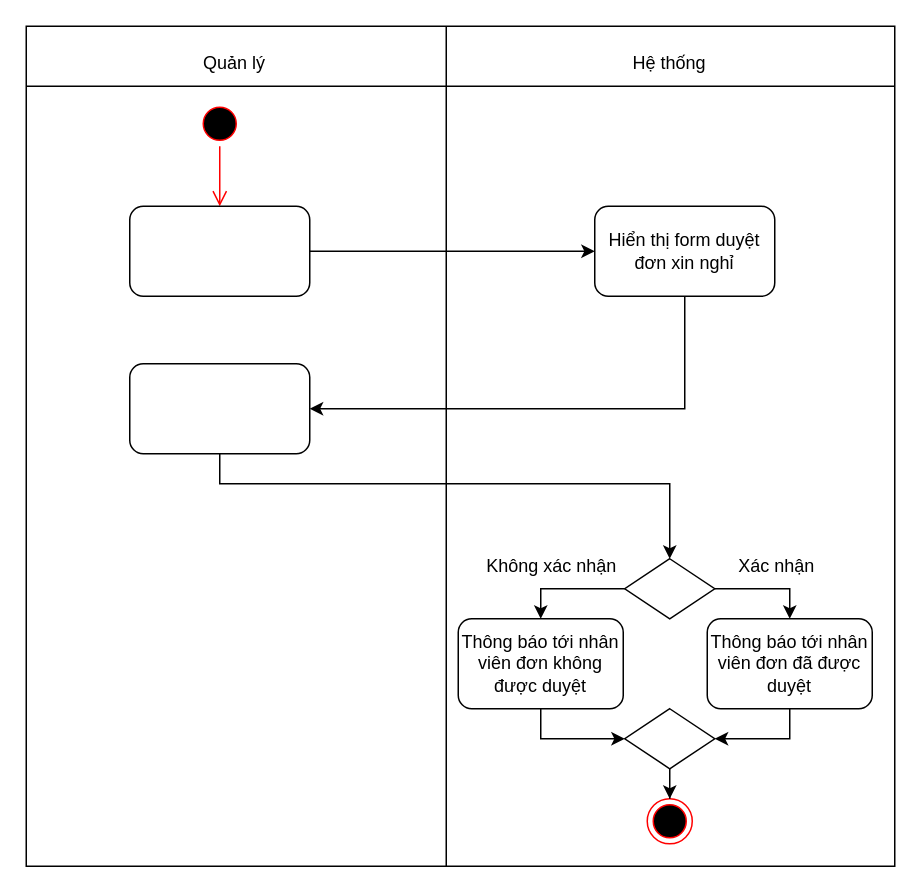
This 921x893 diagram has some shape labels left out. The shapes that lost their labels are listed below. From the top down, each one's centre as x and y in pixels, then its label:
the point at 219,250: Ấn chọn duyệt đơn xin nghỉ
the point at 219,408: Xác nhận duyệt
